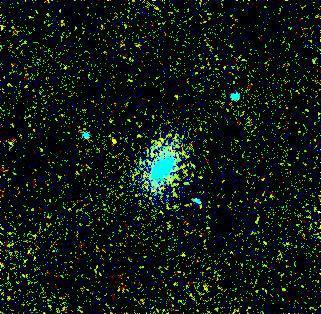star: (100, 124, 130, 154)
